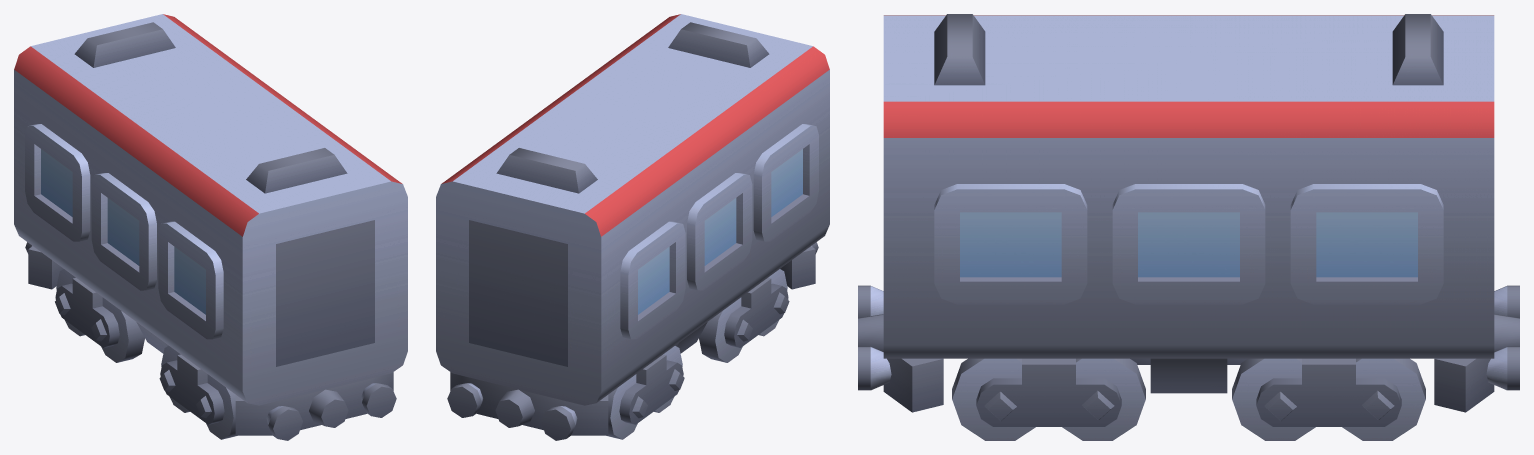
Rendered from train-electric-subway-b.glb.
3 renders of one model, left to right at view 1: azimuth 30°, elevation 25°; view 2: azimuth 150°, elevation 25°; view 3: azimuth 270°, elevation 25°, orthographic. The views are drawn at different scales.
Parts seen in each view (by area): view 1: train-electric-subway-b; view 2: train-electric-subway-b; view 3: train-electric-subway-b.
Boxes of the visible parts, bbox=[...] form: train-electric-subway-b: bbox=[14, 14, 407, 440]; train-electric-subway-b: bbox=[436, 14, 829, 440]; train-electric-subway-b: bbox=[858, 14, 1519, 440].
Bounding box in the file's own units: 1.1 × 1.57 × 2.6.
Materials: 1 (1 with a texture image).
